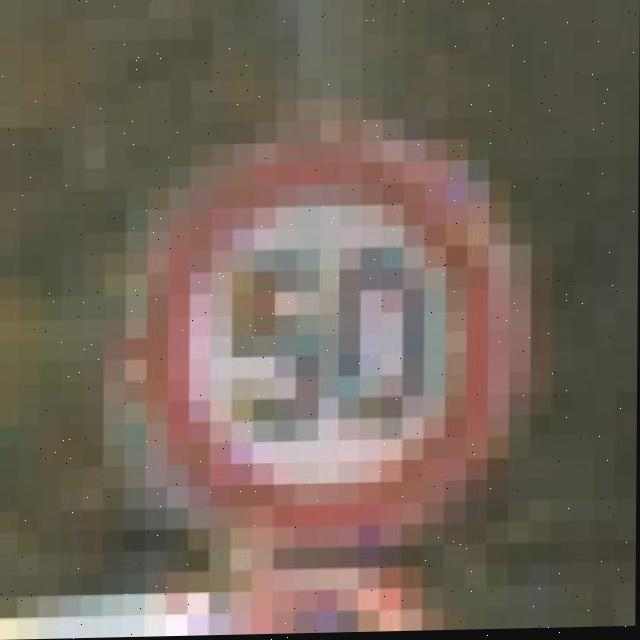Speed limit 50: (140, 118, 522, 525)
